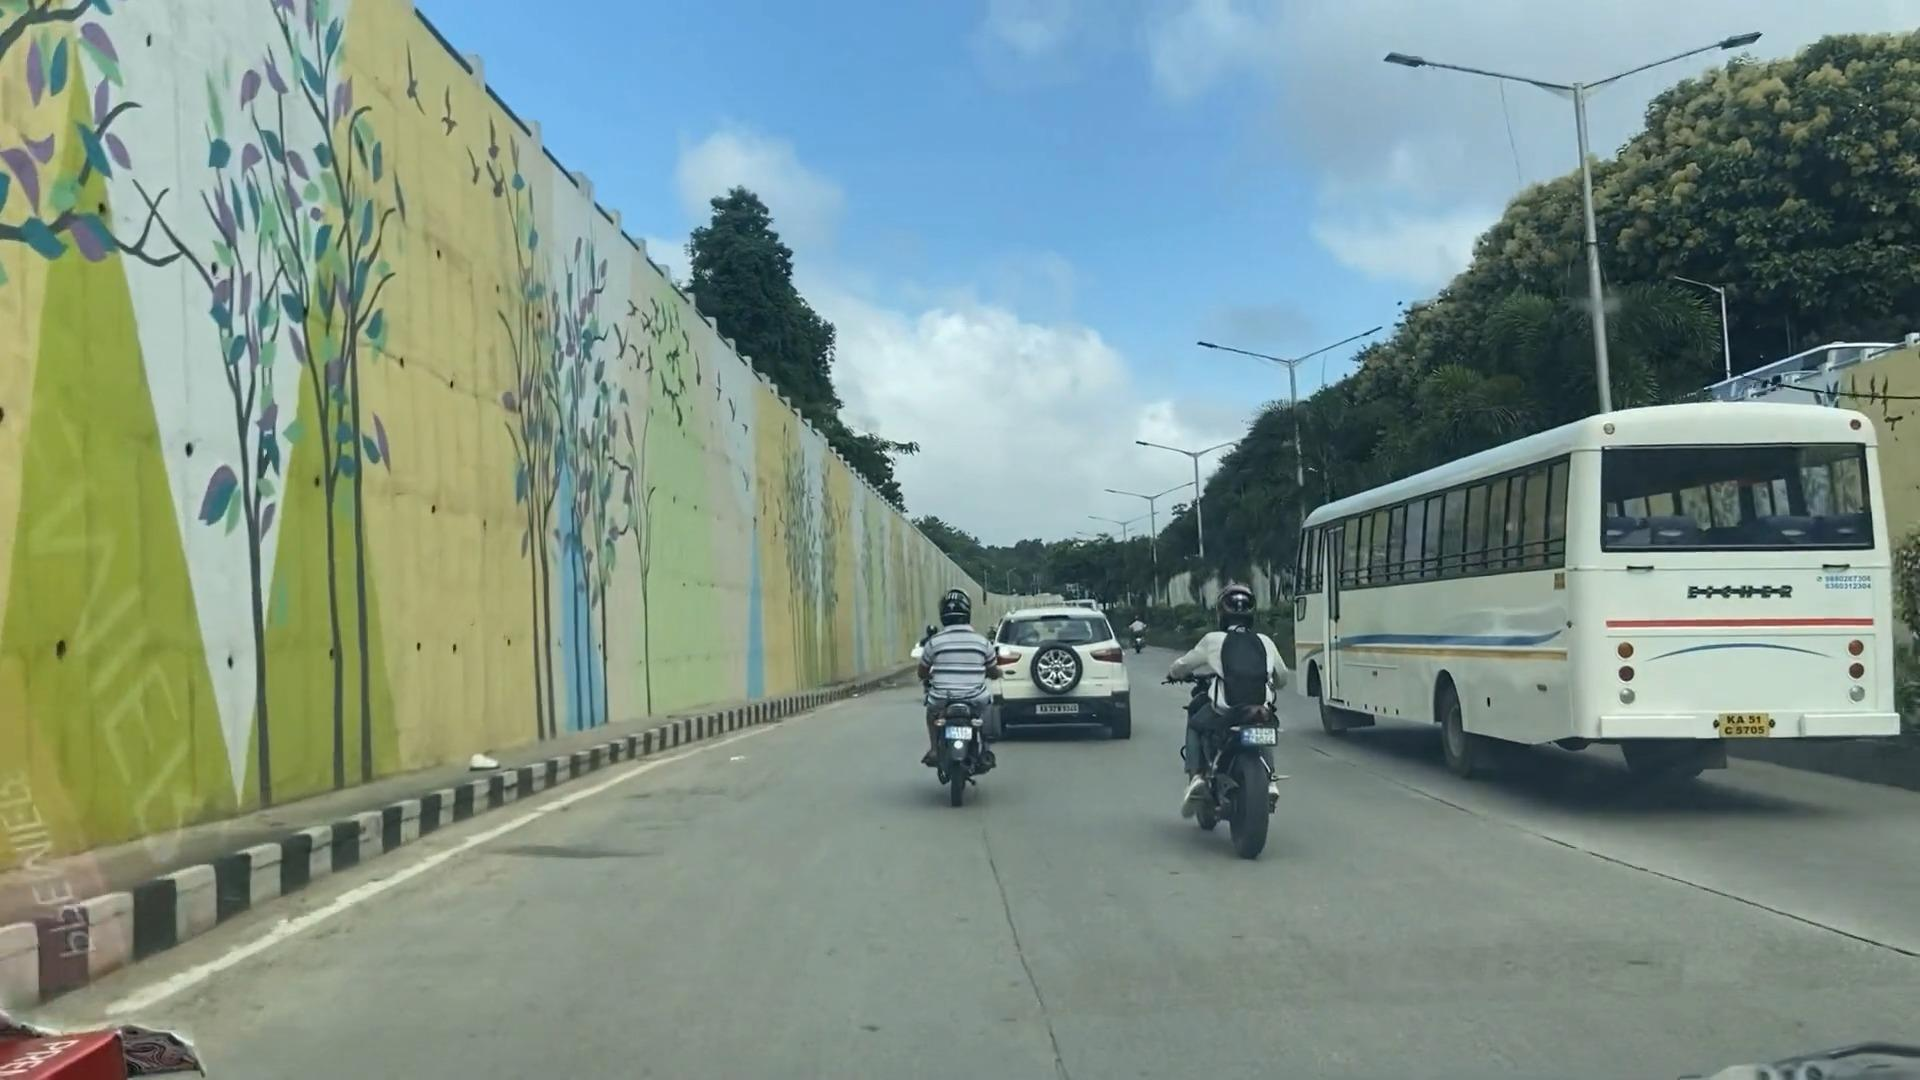HMV: (1300, 413, 1867, 753)
LMV: (1193, 600, 1287, 831), (988, 603, 1133, 740), (924, 607, 1004, 770)
